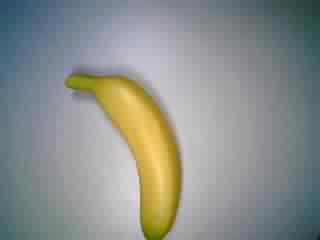banana: (61, 68, 191, 239)
